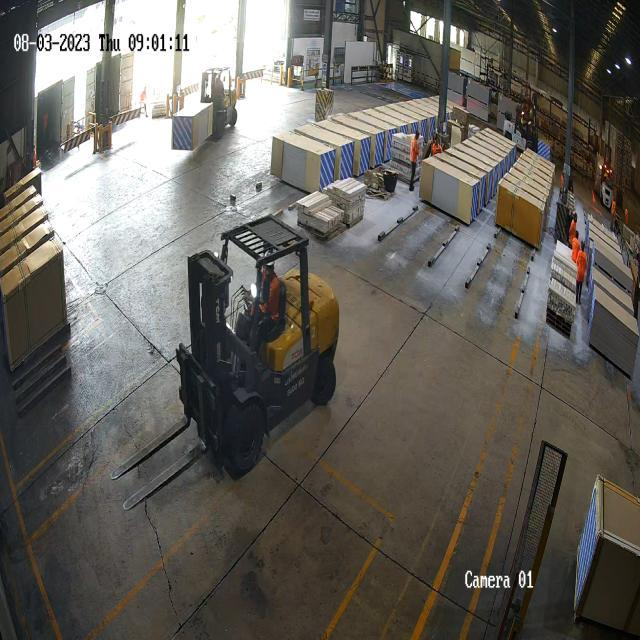driver: (247, 256, 287, 349)
forklift: (174, 203, 344, 482), (206, 69, 240, 144)
person: (408, 128, 420, 192), (577, 242, 586, 304), (602, 163, 612, 208), (568, 212, 578, 242), (572, 232, 580, 262), (433, 136, 441, 154)
